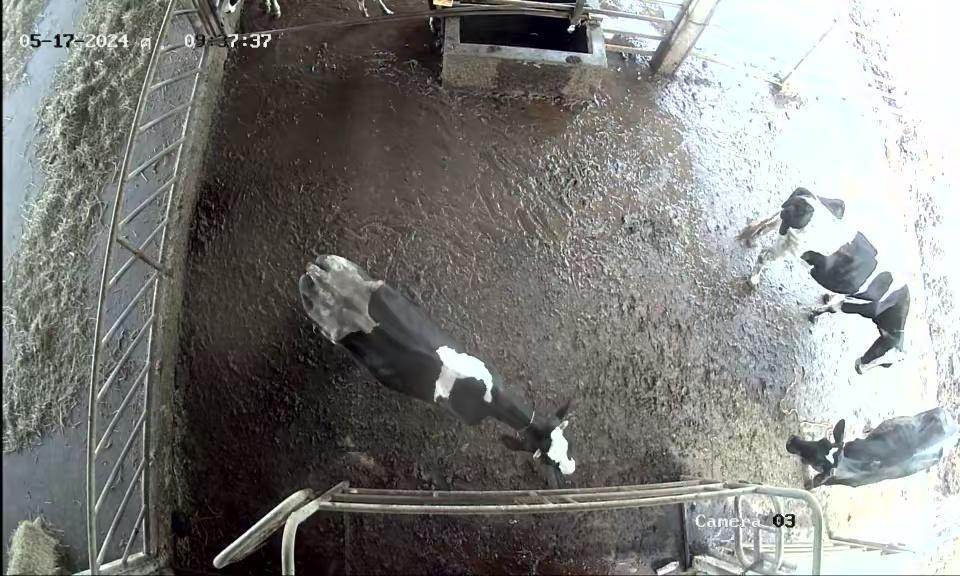stand: (281, 237, 588, 485), (733, 177, 915, 384), (759, 387, 960, 488)
